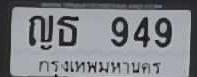4: (133, 16, 149, 47)
9: (154, 16, 171, 47), (110, 16, 127, 46)
A13: (28, 14, 54, 53)
A24: (56, 15, 78, 45)
BKK: (36, 58, 165, 77)
